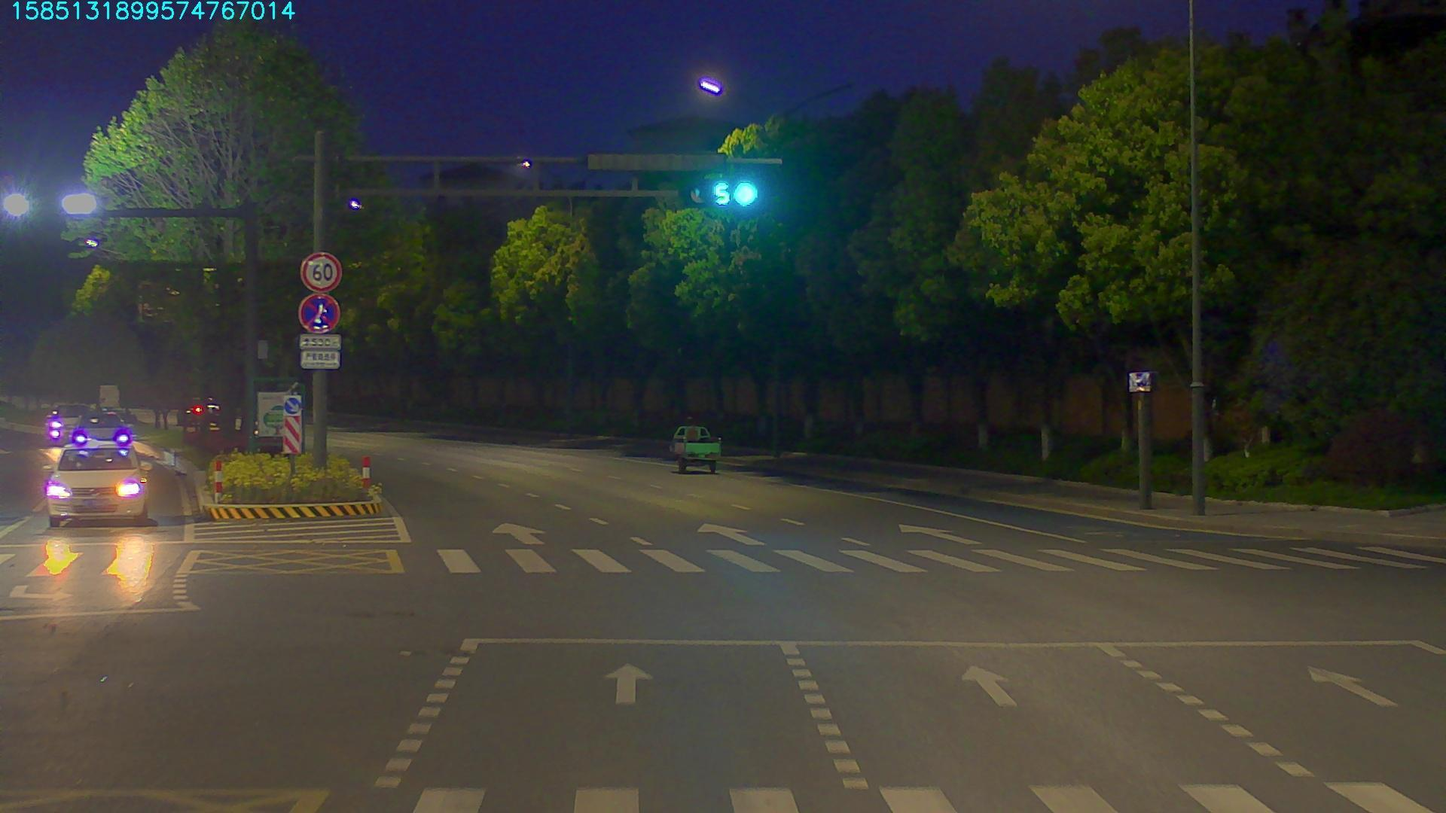green: (700, 178, 764, 211)
